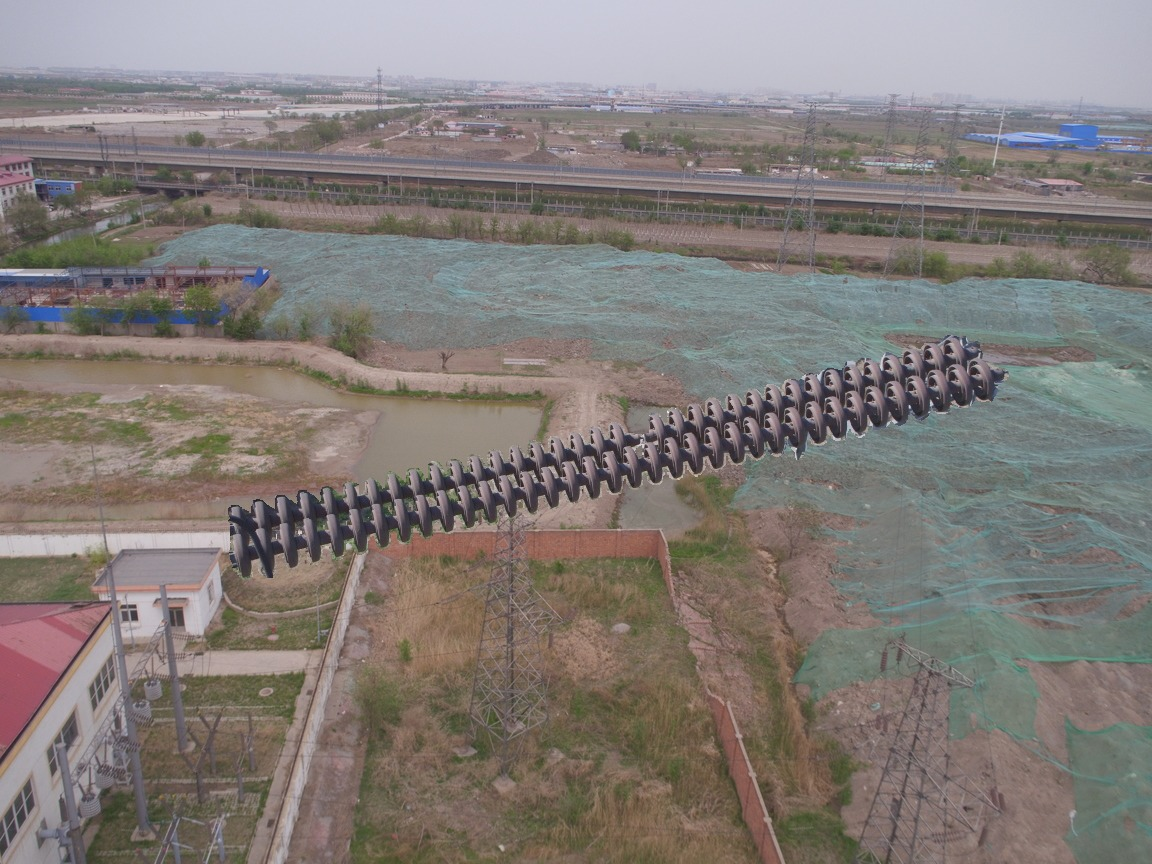defect: (604, 412, 668, 454)
